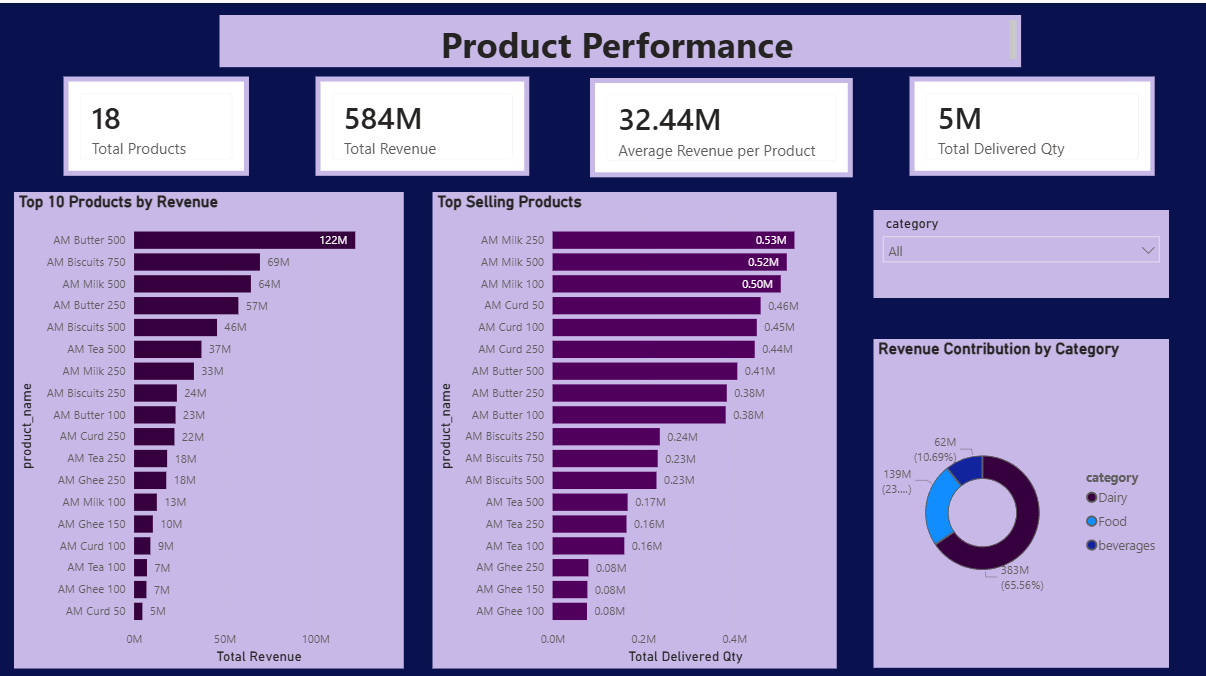

What the dashboard file says about the page in this screenshot:
{"tool":"powerbi","page":{"name":"Page 3","canvas":[1280,720],"ordinal":2},"visuals":[{"type":"textbox","box":[233.3,13.3,850,55],"z":0},{"type":"cardVisual","fields":{"Data":["dim_customers.Total Products"]},"box":[68.3,78.3,196.7,105],"z":1000},{"type":"cardVisual","fields":{"Data":["dim_customers.Total Revenue"]},"box":[335,78.3,226.7,105],"z":2000},{"type":"cardVisual","fields":{"Data":["dim_customers.Average Revenue per Product"]},"box":[626.7,80,278.3,105],"z":3000},{"type":"cardVisual","fields":{"Data":["dim_customers.Total Delivered Qty"]},"box":[965,78.3,260,105],"z":4000},{"type":"clusteredBarChart","title":"Top 10 Products by Revenue","fields":{"Category":["dim_products.product_name"],"Y":["dim_customers.Total Revenue"]},"box":[16.7,200,413.3,505],"z":5000},{"type":"clusteredBarChart","title":"Top Selling Products","fields":{"Category":["dim_products.product_name"],"Y":["dim_customers.Total Delivered Qty"]},"box":[460,200,428.3,505],"z":6000},{"type":"donutChart","title":"Revenue Contribution by Category","fields":{"Category":["dim_products.category"],"Y":["dim_customers.Total Revenue"]},"box":[926.7,356.7,313.3,348.3],"z":7000},{"type":"slicer","fields":{"Values":["dim_products.category"]},"box":[926.7,220,313.3,93.3],"z":9000}]}

Visuals, with their boxes in screenshot pixels (x1, y1, x2, y2), scaled from the page's 1280x720 canvas onto the 1206x676 screenshot:
textbox: pyautogui.locateOnScreen(220, 12, 1021, 64)
cardVisual - dim_customers.Total Products: pyautogui.locateOnScreen(64, 74, 250, 172)
cardVisual - dim_customers.Total Revenue: pyautogui.locateOnScreen(316, 74, 529, 172)
cardVisual - dim_customers.Average Revenue per Product: pyautogui.locateOnScreen(590, 75, 853, 174)
cardVisual - dim_customers.Total Delivered Qty: pyautogui.locateOnScreen(909, 74, 1154, 172)
"Top 10 Products by Revenue" clusteredBarChart: pyautogui.locateOnScreen(16, 188, 405, 662)
"Top Selling Products" clusteredBarChart: pyautogui.locateOnScreen(433, 188, 837, 662)
"Revenue Contribution by Category" donutChart: pyautogui.locateOnScreen(873, 335, 1168, 662)
slicer - dim_products.category: pyautogui.locateOnScreen(873, 207, 1168, 294)
